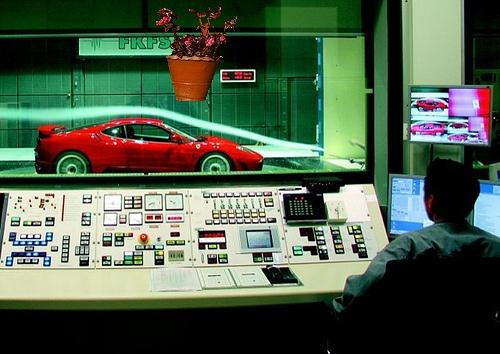tampered: (157, 7, 237, 101)
